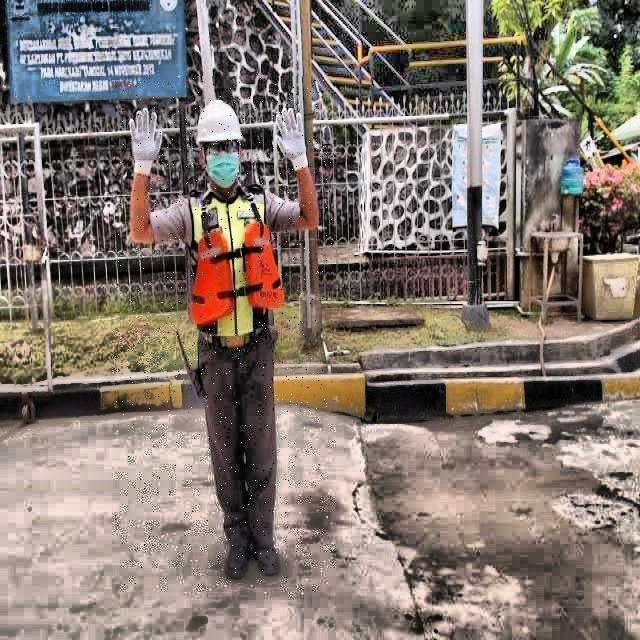safety_helmet: (194, 94, 247, 150)
safety_jacket: (186, 182, 289, 346)
